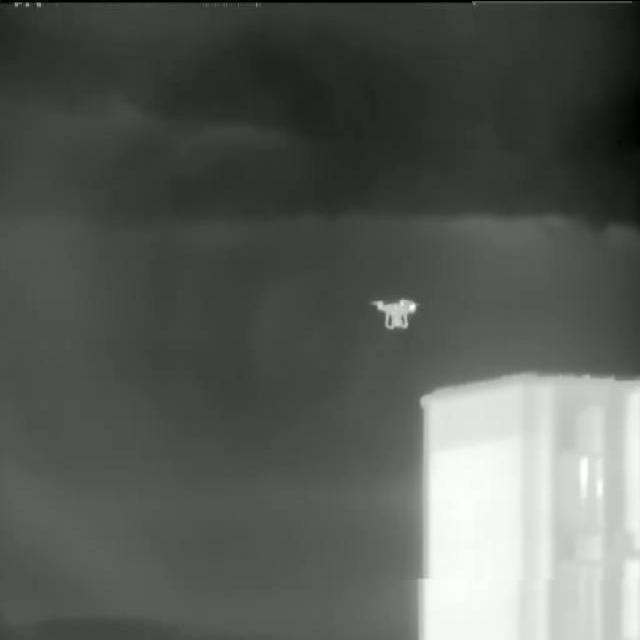DRONE: (367, 295, 419, 331)
